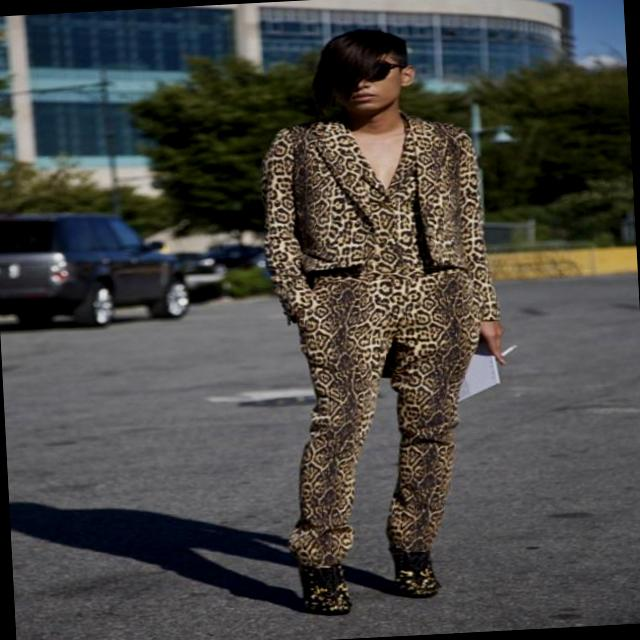pants: (277, 267, 489, 569)
sweater: (260, 110, 498, 331)
